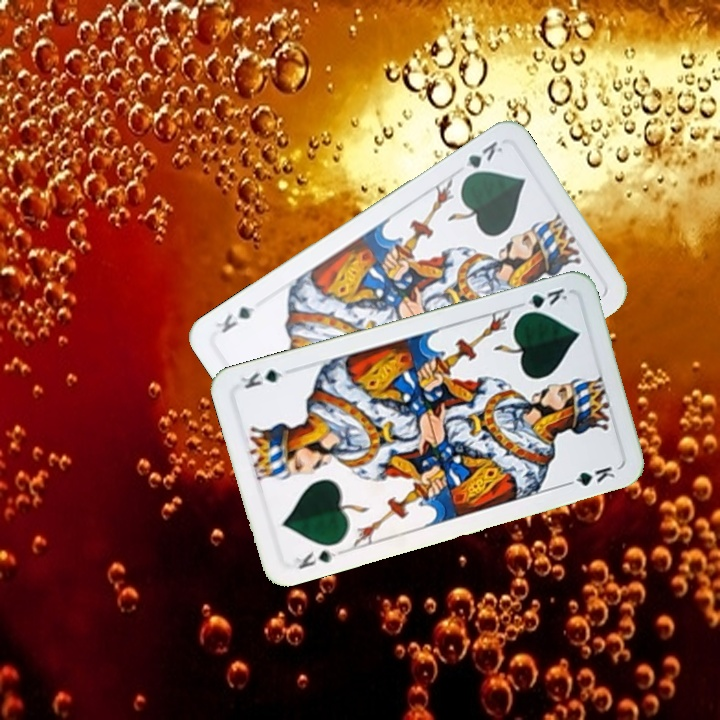GK: (458, 136, 506, 183), (513, 284, 570, 318), (290, 546, 344, 572)
